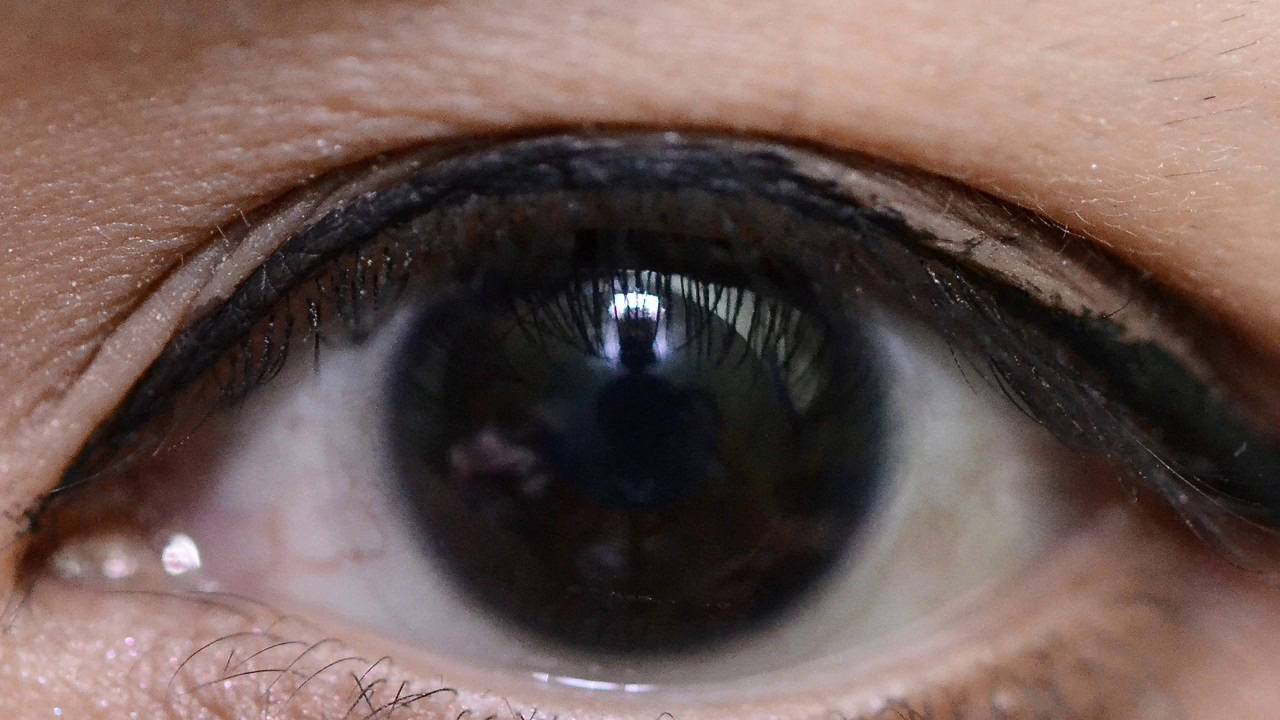iris: (379, 195, 894, 660)
pupil: (577, 361, 706, 505)
